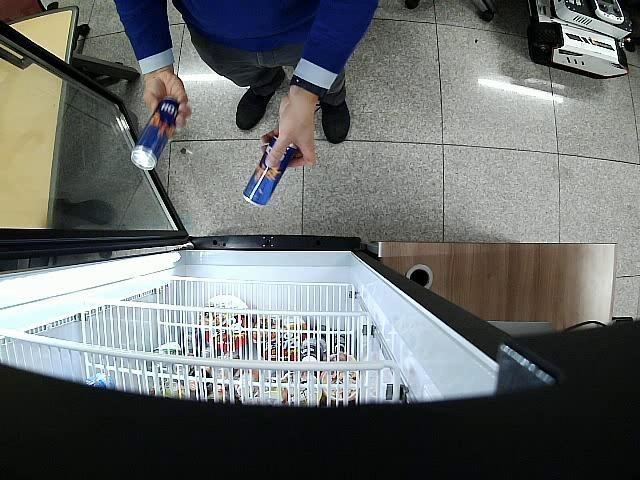16_hot6: (244, 136, 296, 208), (130, 98, 179, 170)
